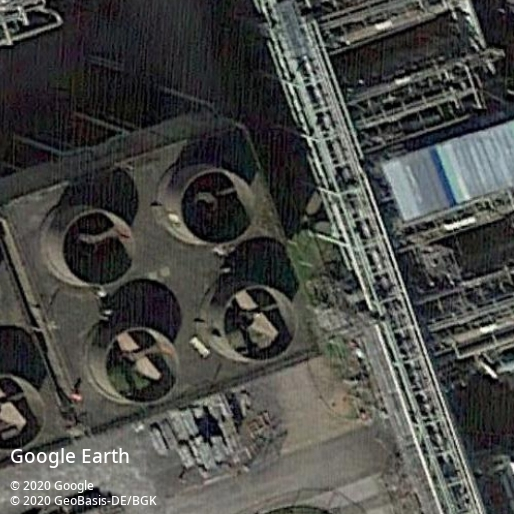Vent: (103, 327, 181, 405), (61, 209, 138, 288), (221, 285, 298, 364), (180, 169, 257, 247)
